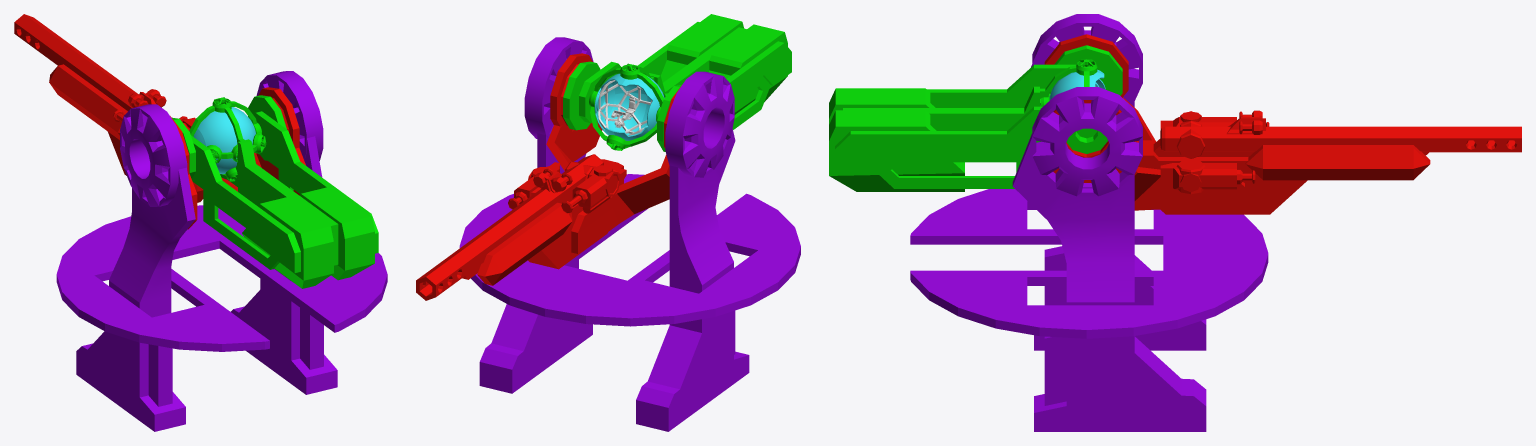
Rendered from Mockup v2.0.fbx.
The picture shows the model from 3 angles, left to right: view 1: azimuth 30°, elevation 25°; view 2: azimuth 150°, elevation 25°; view 3: azimuth 270°, elevation 25°; orthographic projection. The views are drawn at different scales.
Parts seen in each view (by area): view 1: Tower, [Horizontal] Tower Floor Plate, Stockpiles, Tower Bearing, [Stockpile Vertical] Stockpile Mount, Barrel, Side Plates, Sockpile Guards, [Player] Shell, [Gun Vertical] Gun Bearing, Cockpit Carrior, Cockpit Drivers (+2 smaller); view 2: Tower, [Horizontal] Tower Floor Plate, Tower Bearing, Stockpiles, Gun Mount, [Stockpile Vertical] Stockpile Mount, Barrel, Side Plates, [Player] Shell, Mag.L, Cannon Core, [Gun Vertical] Gun Bearing (+6 smaller); view 3: [Horizontal] Tower Floor Plate, Tower, Tower Bearing, [Stockpile Vertical] Stockpile Mount, Stockpiles, Barrel, Side Plates, Sockpile Guards, Gun Mount, Cannon Core, Mag.R, [Gun Vertical] Gun Bearing (+4 smaller).
Boxes of the visible parts, x1,y1,x2,y2 form: Tower: (76,136,337,431); [Horizontal] Tower Floor Plate: (56,205,387,351); Stockpiles: (238,139,374,288); Tower Bearing: (120,71,323,206); [Stockpile Vertical] Stockpile Mount: (172,95,378,273); Barrel: (14,14,137,110); Side Plates: (49,64,127,139); Sockpile Guards: (203,169,309,269); [Player] Shell: (193,107,255,174); [Gun Vertical] Gun Bearing: (170,87,299,174); Cockpit Carrior: (189,101,261,186); Cockpit Drivers: (207,97,266,181); Tower: (479,129,749,431); [Horizontal] Tower Floor Plate: (459,174,800,326); Tower Bearing: (524,37,734,177); Stockpiles: (649,14,787,114); Gun Mount: (546,121,669,253); [Stockpile Vertical] Stockpile Mount: (563,22,791,151); Barrel: (416,154,603,300); Side Plates: (462,202,572,285); [Player] Shell: (594,73,664,140); Mag.L: (561,165,626,213); Cannon Core: (528,159,623,269); [Gun Vertical] Gun Bearing: (550,53,681,148); [Horizontal] Tower Floor Plate: (910,189,1268,338); Tower: (1012,64,1206,431); Tower Bearing: (1032,14,1142,196); [Stockpile Vertical] Stockpile Mount: (835,45,1122,171); Stockpiles: (829,86,1039,191); Barrel: (1160,126,1521,152); Side Plates: (1245,145,1430,180); Sockpile Guards: (875,153,1023,188); Gun Mount: (1053,97,1244,210); Cannon Core: (1134,140,1307,214); Mag.R: (1160,159,1255,194); [Gun Vertical] Gun Bearing: (1044,34,1128,157).
Size of the model in its own units: 37.65 by 71.74 by 37.46.
